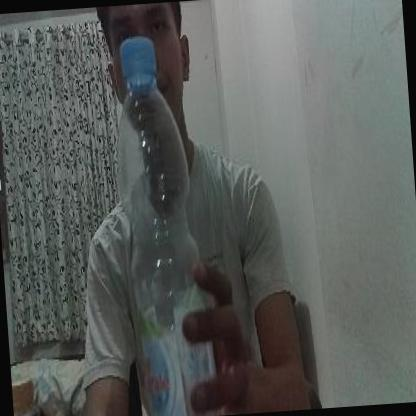plastic_bottles: (107, 36, 205, 416)
